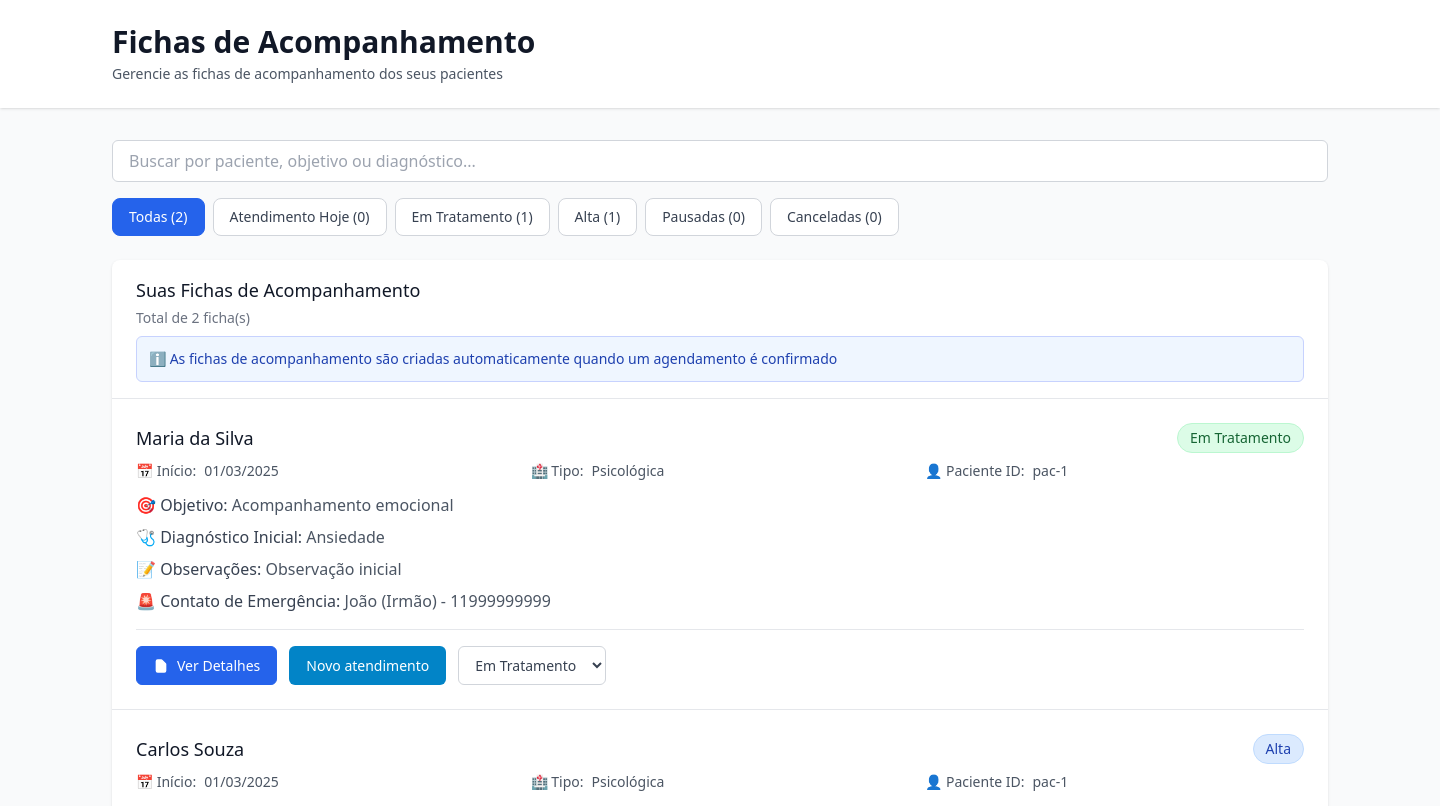
ProfessionalFichasPage › abre modal de ficha com abas extraídas (Detalhes, Dados, Sessões, Prontuário)
The width and height of the screenshot is (1440, 806).
Check: the heading "Maria da Silva" is shown, box x1=136 y1=424 x2=254 y2=452
Click the button "Ver Detalhes".
click(207, 666)  # box x1=136 y1=646 x2=277 y2=685
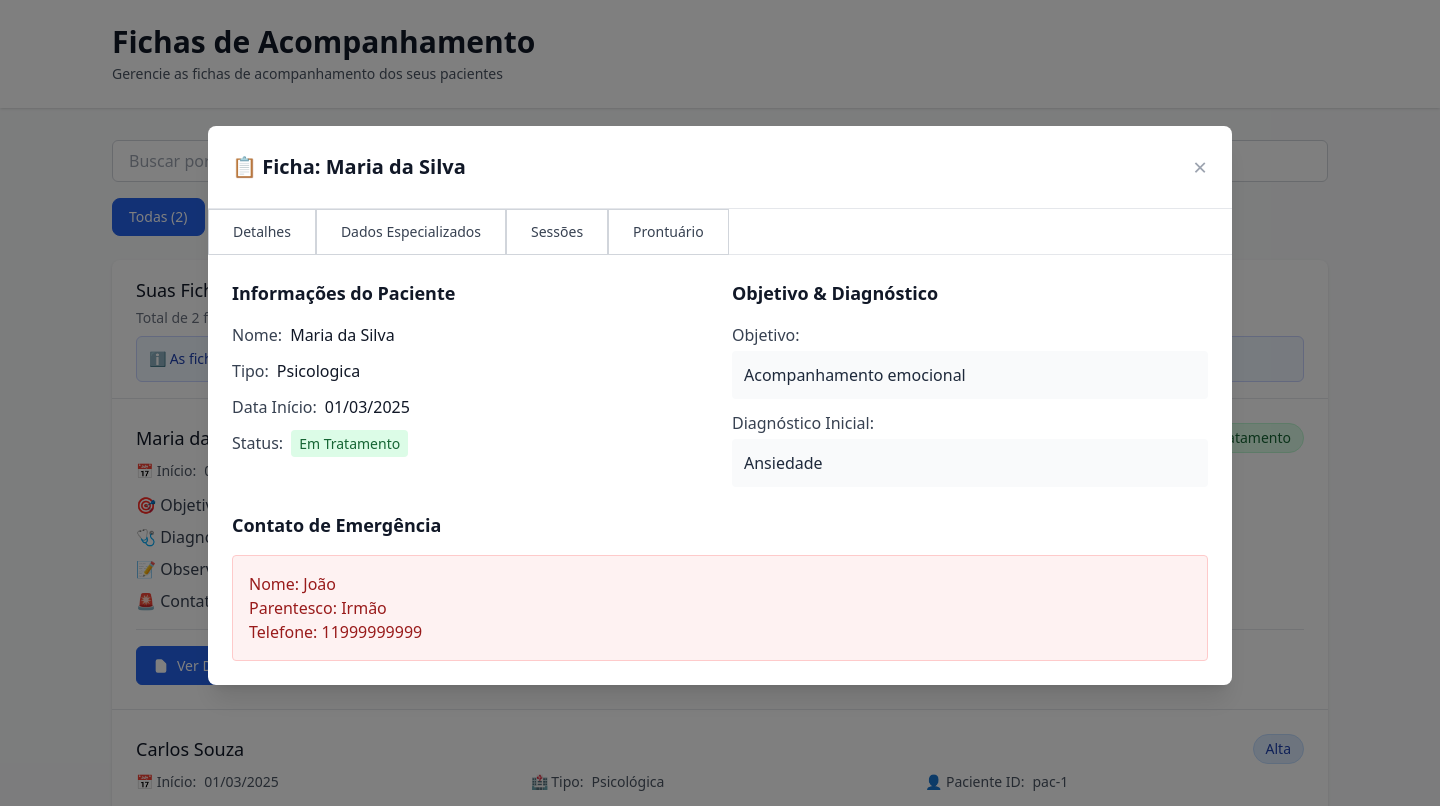
Check: the heading "📋 Ficha: Maria da Silva" is shown, box x1=232 y1=152 x2=466 y2=180
Check: the button "Detalhes" is shown, box x1=208 y1=208 x2=316 y2=254
Check: the button "Dados Especializados" is shown, box x1=316 y1=208 x2=506 y2=254
Click the button "Sessões".
click(557, 232)  # box x1=506 y1=208 x2=608 y2=254
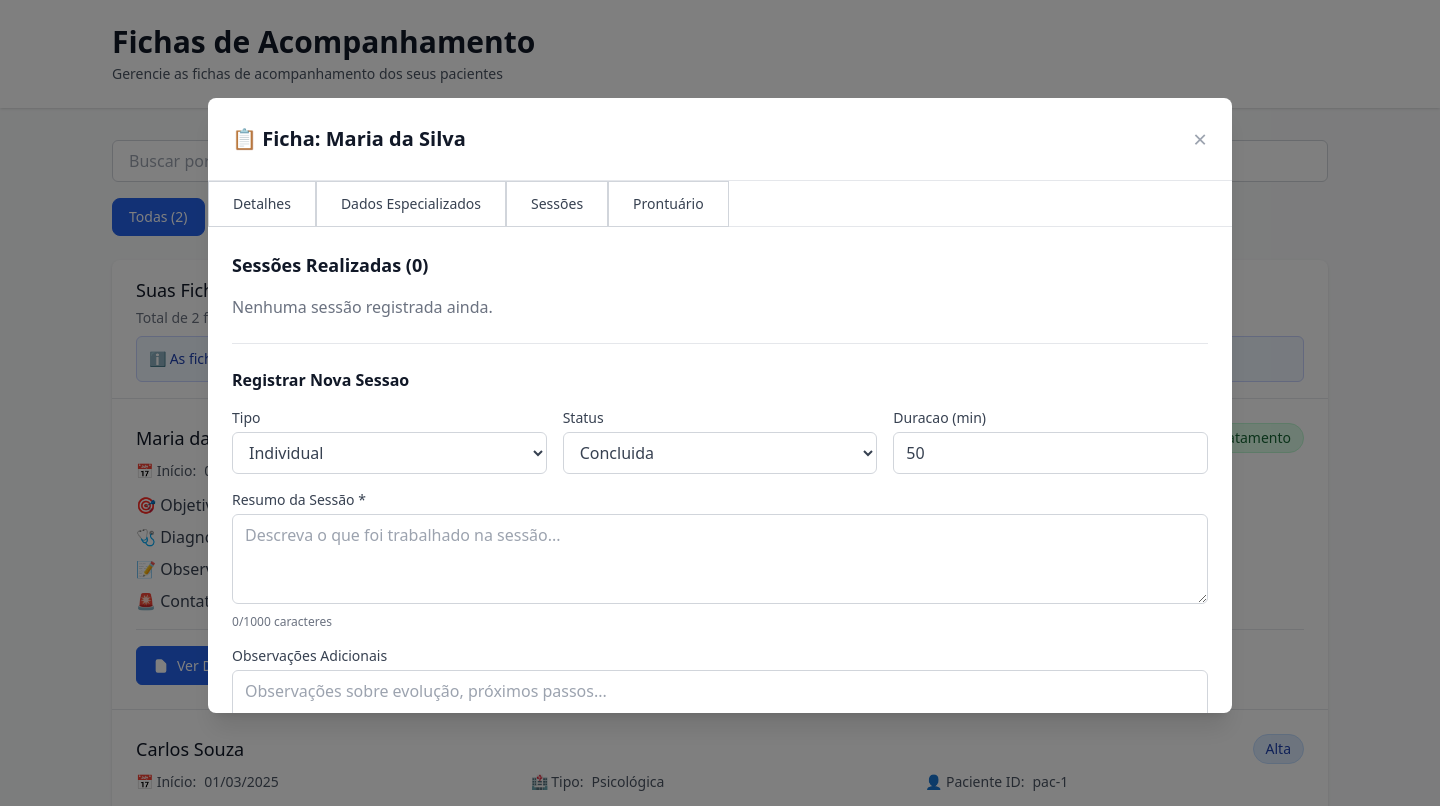
Check: the heading "Sessões Realizadas (0)" is shown, box x1=232 y1=252 x2=428 y2=276
